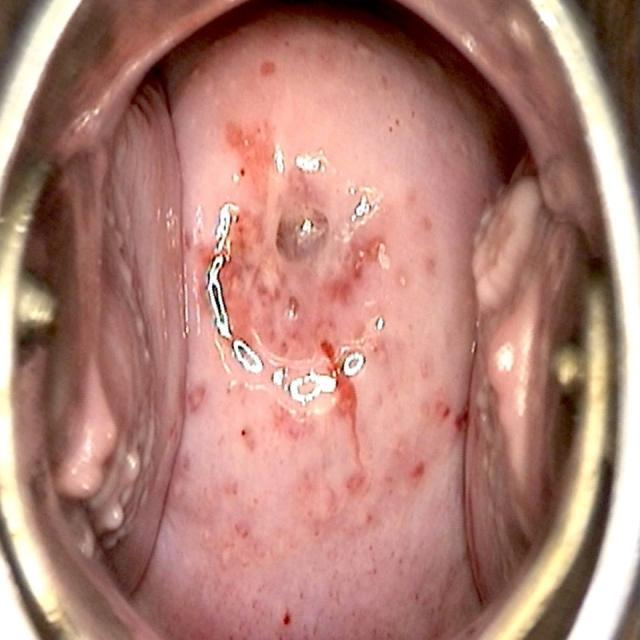cervical_lesion: (204, 128, 411, 432)
